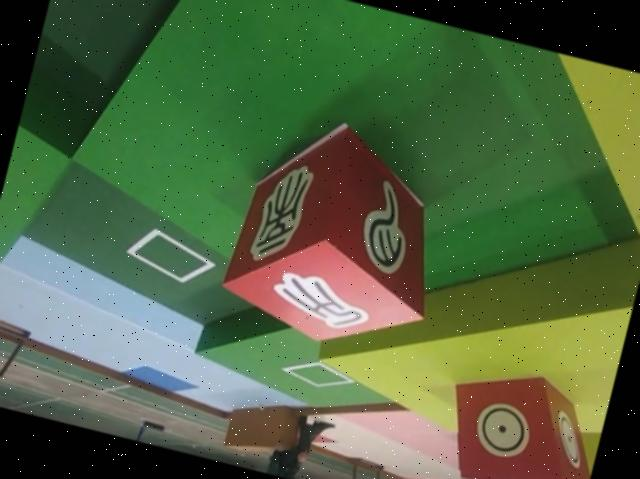R2 Fake: (215, 108, 466, 365)
R2 Real: (434, 354, 612, 479)
